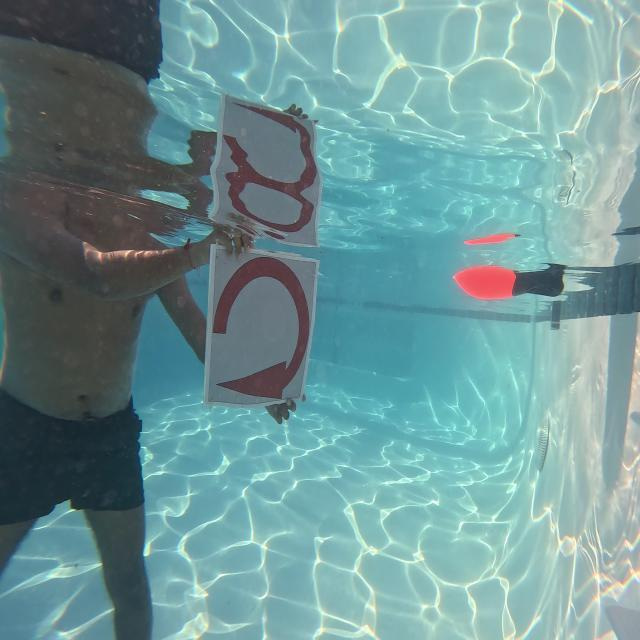red_side: (196, 220, 326, 429)
